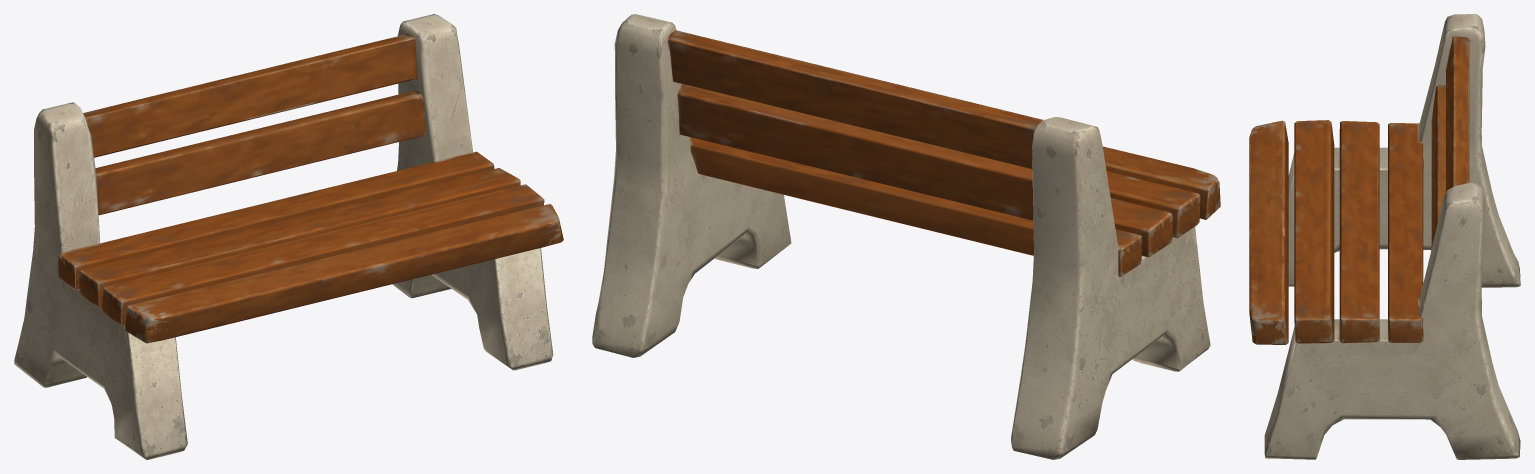
File: Weathered Park Bench.glb
3 renders of one model, left to right at view 1: azimuth 30°, elevation 25°; view 2: azimuth 150°, elevation 25°; view 3: azimuth 270°, elevation 25°, orthographic. The views are drawn at different scales.
Size of the model in its own units: 0.9575 by 0.583 by 0.5493.
Materials: 1 (1 with a texture image).
